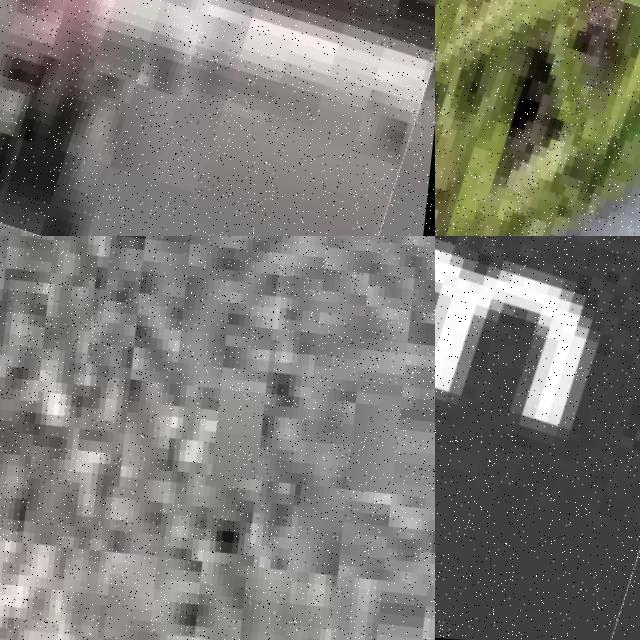0: (0, 0, 435, 236)
drone: (435, 236, 640, 640), (435, 0, 640, 236)
